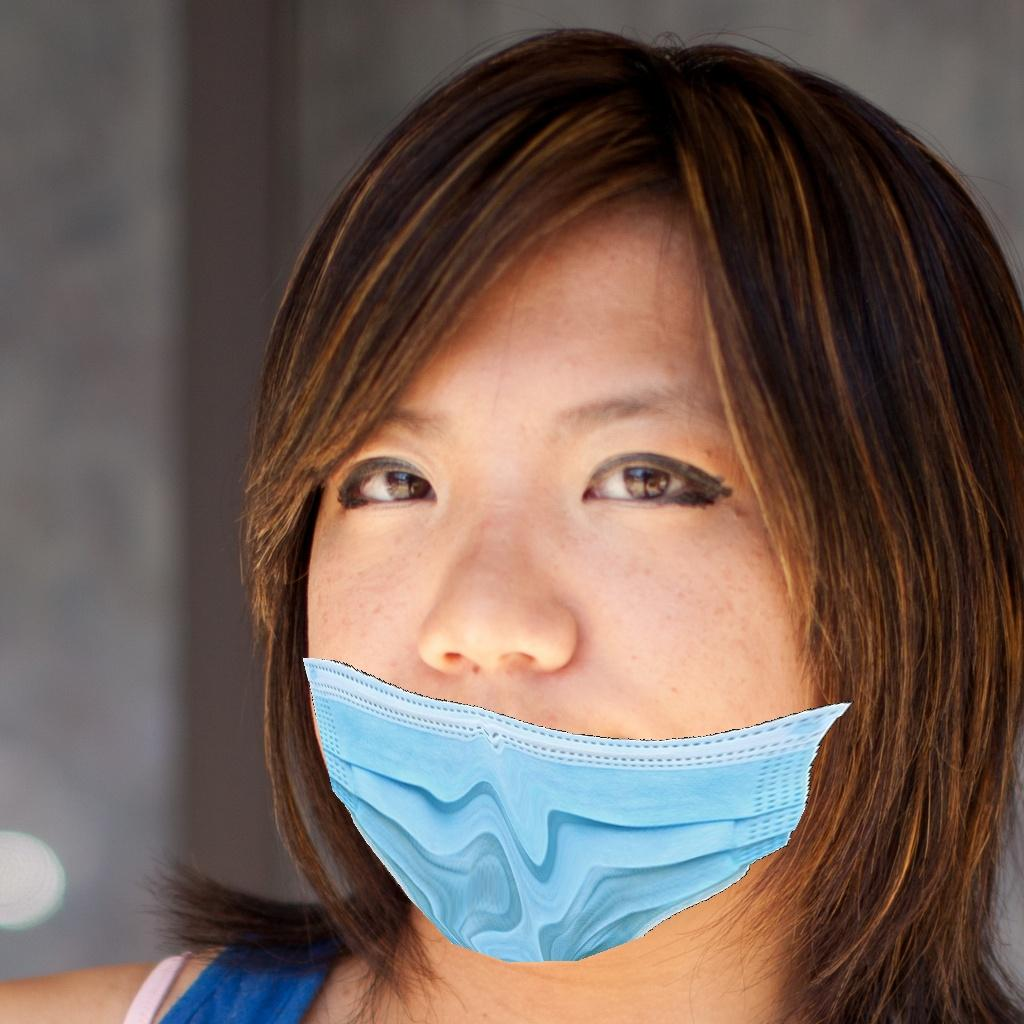Máscara Incorreta: (293, 284, 851, 928)
